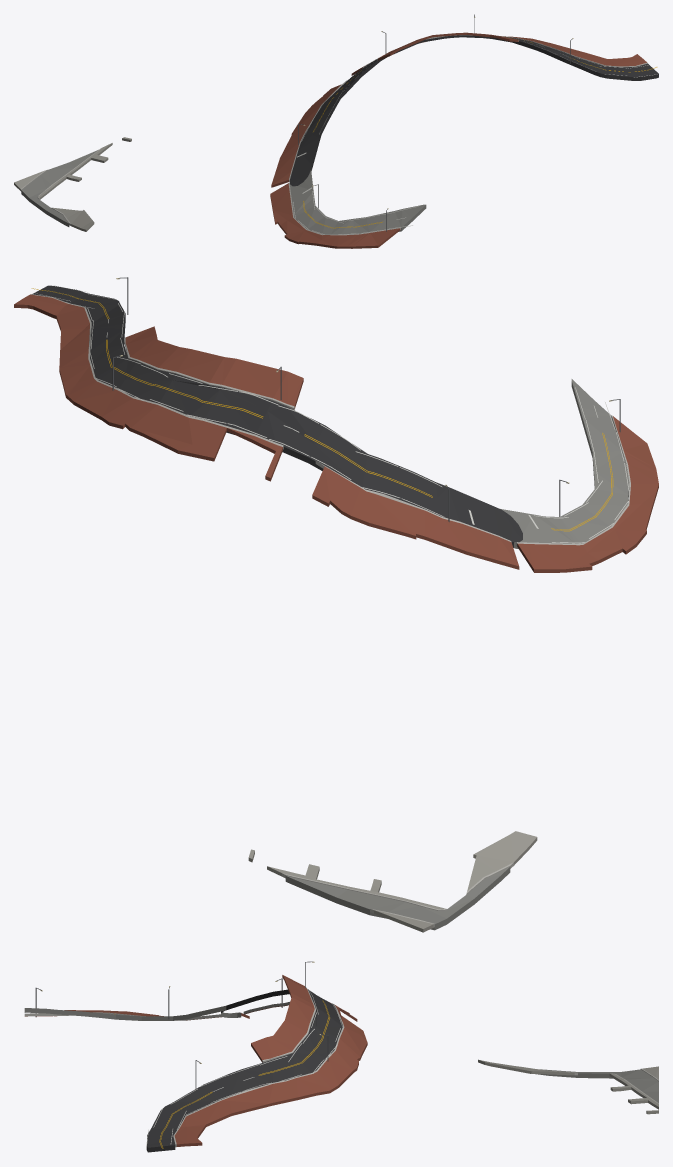
File: 18-218881-118962.ddf28306.glb
The picture shows the model from 3 angles, top to bottom: view 1: azimuth 30°, elevation 25°; view 2: azimuth 150°, elevation 25°; view 3: azimuth 270°, elevation 25°; orthographic projection. The views are drawn at different scales.
Size of the model in its own units: 148 by 64.92 by 148.
